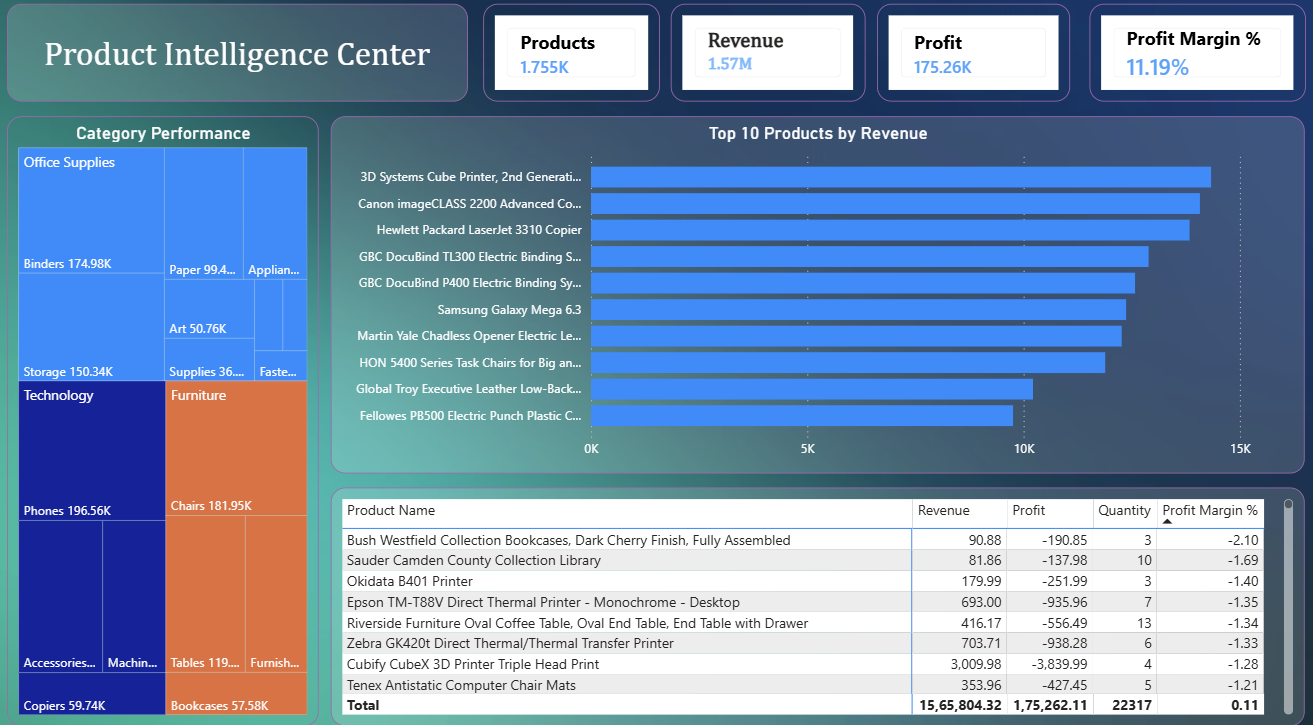

The dashboard page shown, as its layout file describes it:
{"tool":"powerbi","page":{"name":"Product Intelligence Center ","canvas":[1280,720],"ordinal":2},"visuals":[{"type":"cardVisual","fields":{"Data":["Count(SuperStore_Sales_Dataset.Product ID)"]},"box":[469.3,13.7,170.2,94.7],"z":0},{"type":"cardVisual","fields":{"Data":["Sum(SuperStore_Sales_Dataset.Sales)"]},"box":[650.4,13.7,188,94.7],"z":1000},{"type":"cardVisual","fields":{"Data":["Sum(SuperStore_Sales_Dataset.Profit)"]},"box":[849.4,13.7,186.6,94.7],"z":2000},{"type":"cardVisual","fields":{"Data":[" Measures.Profit Margin %"]},"box":[1053.9,13.7,208.6,94.7],"z":3000},{"type":"treemap","title":"Category Performance","fields":{"Group":["SuperStore_Sales_Dataset.Category"],"Details":["SuperStore_Sales_Dataset.Sub-Category"],"Values":["Sum(SuperStore_Sales_Dataset.Sales)"]},"box":[9.6,122.1,300.5,588.7],"z":4000},{"type":"barChart","title":"Top 10 Products by Revenue","fields":{"Category":["SuperStore_Sales_Dataset.Product Name"],"Y":["Sum(SuperStore_Sales_Dataset.Sales)"]},"box":[322.5,122.1,940,344.4],"z":6000},{"type":"textbox","box":[9.6,13.7,444.6,94.7],"z":7000},{"type":"pivotTable","fields":{"Rows":["SuperStore_Sales_Dataset.Product Name"],"Values":["Sum(SuperStore_Sales_Dataset.Sales)","Sum(SuperStore_Sales_Dataset.Profit)","Sum(SuperStore_Sales_Dataset.Quantity)"," Measures.Profit Margin %"]},"box":[322.5,480.3,940,230.5],"z":8000}]}

Visuals, with their boxes in screenshot pixels (x1, y1, x2, y2), scaled from the page's 1280x720 canvas onto the 1313x725 screenshot:
cardVisual - Count(SuperStore_Sales_Dataset.Product ID): [left=481, top=14, right=656, bottom=109]
cardVisual - Sum(SuperStore_Sales_Dataset.Sales): [left=667, top=14, right=860, bottom=109]
cardVisual - Sum(SuperStore_Sales_Dataset.Profit): [left=871, top=14, right=1063, bottom=109]
cardVisual -  Measures.Profit Margin %: [left=1081, top=14, right=1295, bottom=109]
"Category Performance" treemap: [left=10, top=123, right=318, bottom=716]
"Top 10 Products by Revenue" barChart: [left=331, top=123, right=1295, bottom=470]
textbox: [left=10, top=14, right=466, bottom=109]
pivotTable - SuperStore_Sales_Dataset.Product Name x Sum(SuperStore_Sales_Dataset.Sales): [left=331, top=484, right=1295, bottom=716]
